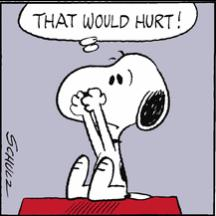snoopy: (54, 48, 172, 202)
